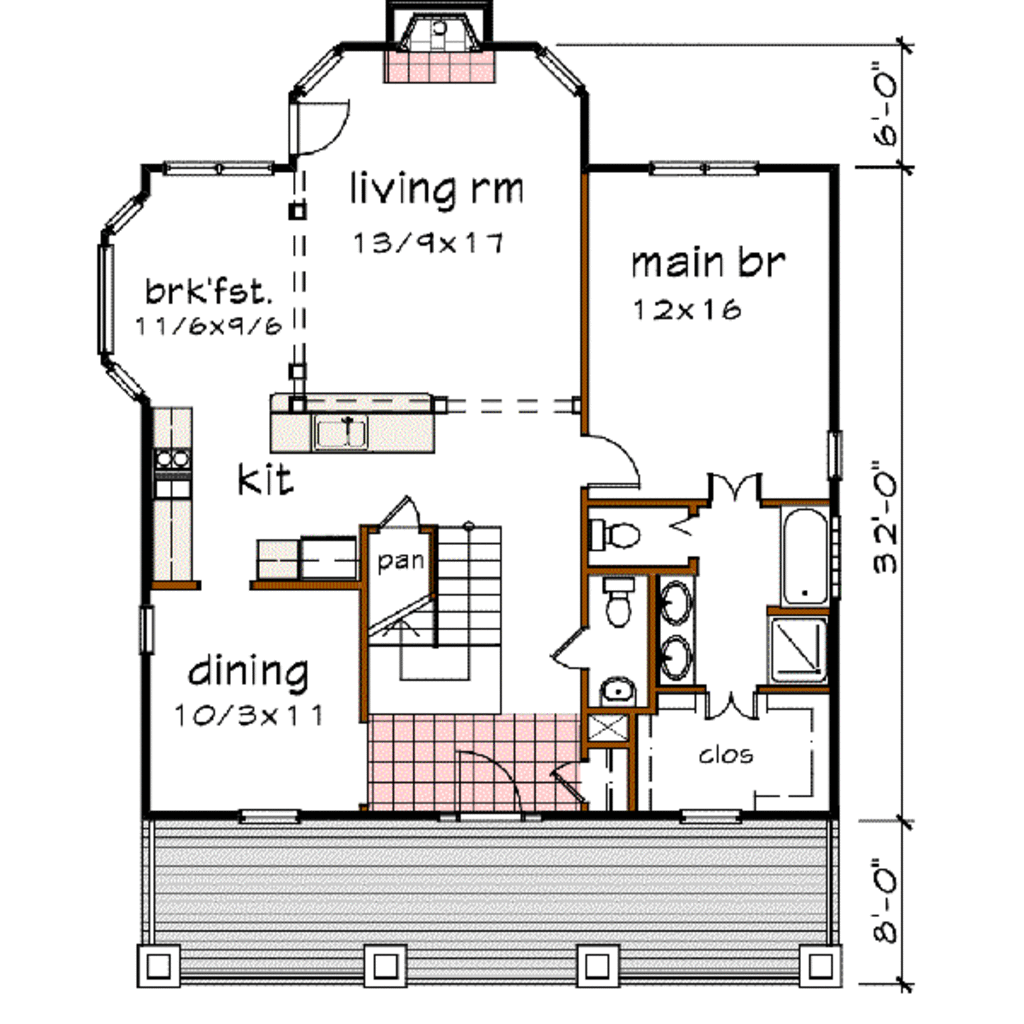door: (452, 742, 531, 821), (290, 95, 358, 161), (583, 432, 644, 496), (698, 466, 767, 507), (706, 685, 763, 728), (552, 619, 597, 672), (545, 761, 589, 807)
kitchen_bar: (266, 382, 459, 469)
large_sink: (588, 507, 644, 561), (595, 572, 642, 630)
small_sink: (661, 577, 703, 683), (605, 678, 641, 710)
stairs: (363, 532, 511, 713)
tub: (781, 507, 830, 605)
window: (648, 153, 772, 180), (294, 33, 345, 97), (539, 46, 588, 102), (230, 796, 309, 828), (680, 802, 747, 828), (823, 422, 848, 475), (138, 602, 159, 655)
